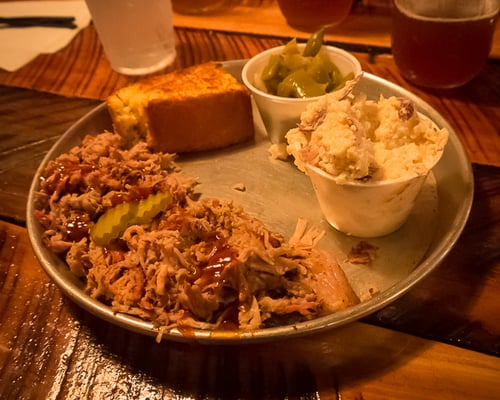pizza: (390, 0, 500, 90), (83, 0, 179, 77), (276, 0, 355, 34)
soup: (104, 63, 254, 155)
sushi: (283, 83, 447, 237), (240, 37, 364, 144)
